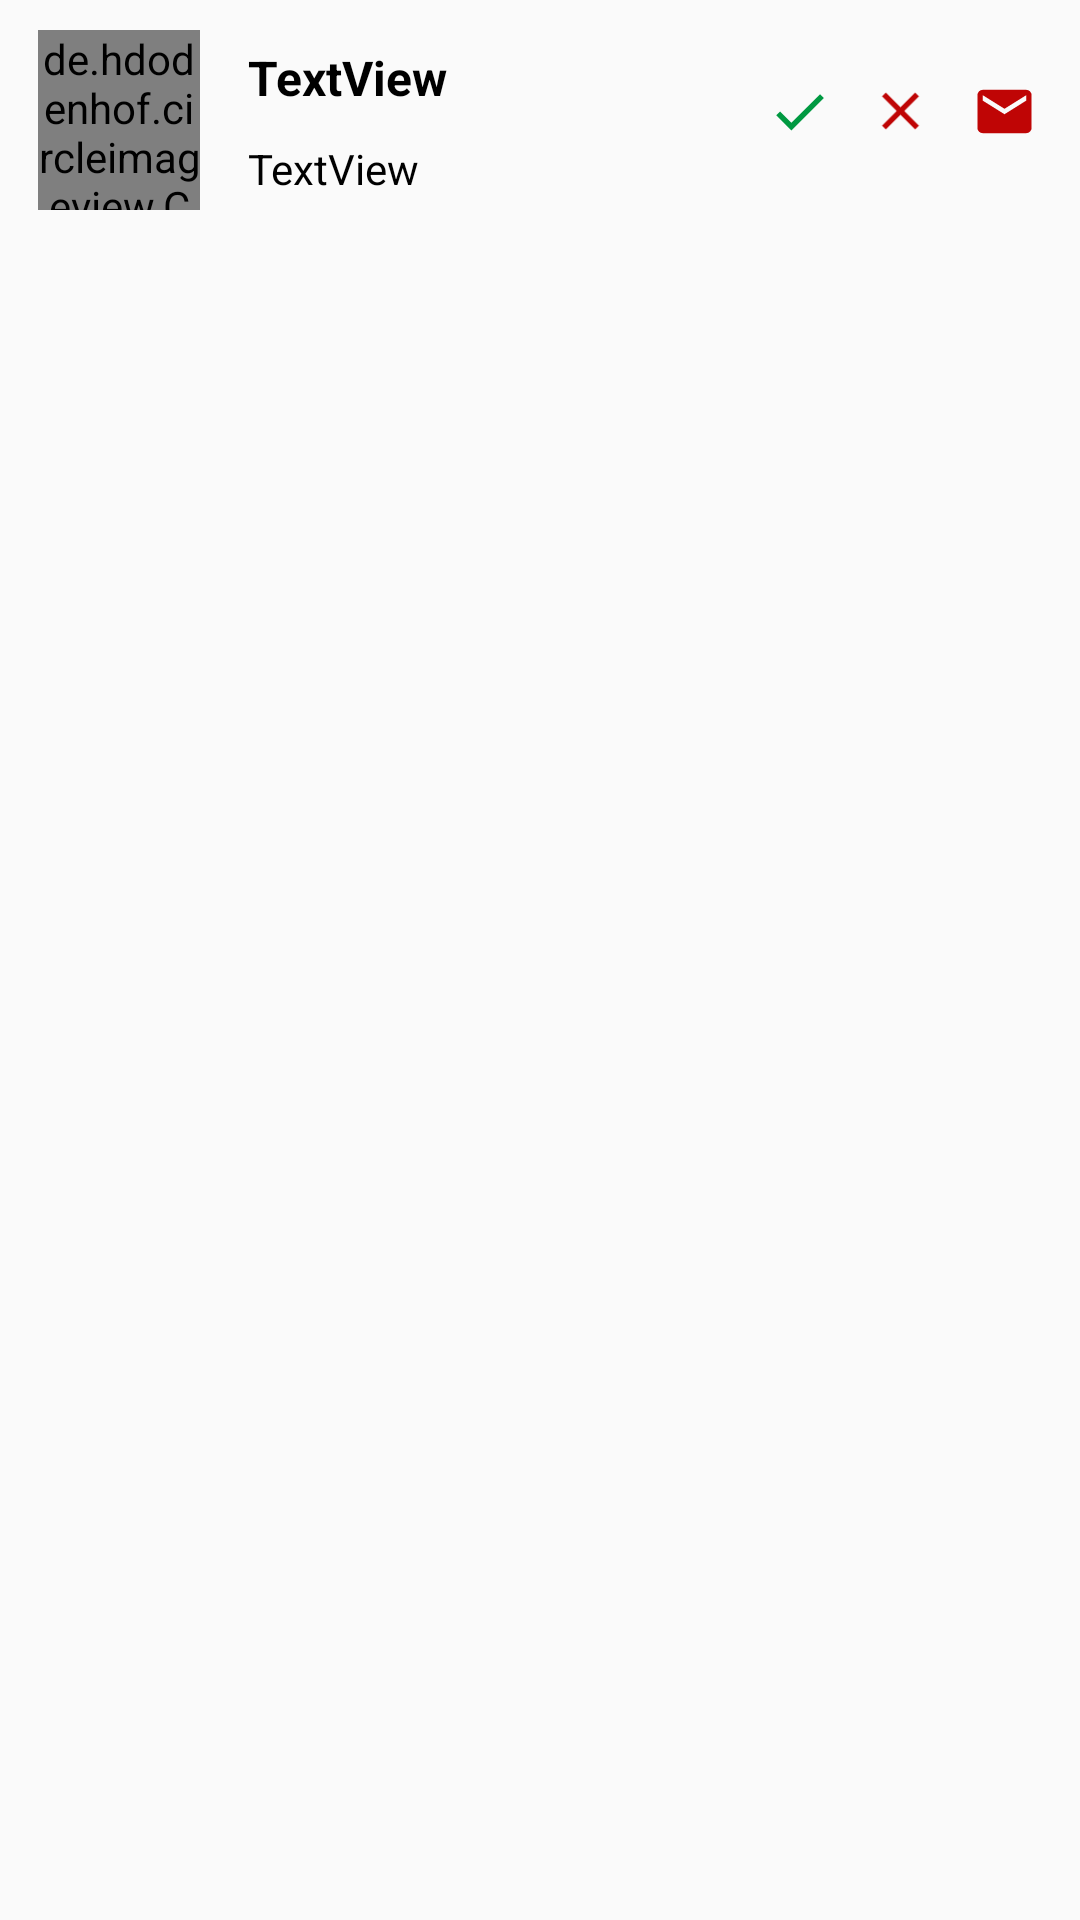

Named icons in this screenshot (1080px×1920px) and their bounding boxes, (x1, y1, x2, y2):
check: (776, 94, 824, 131)
clear: (882, 92, 919, 130)
email: (977, 89, 1032, 134)
